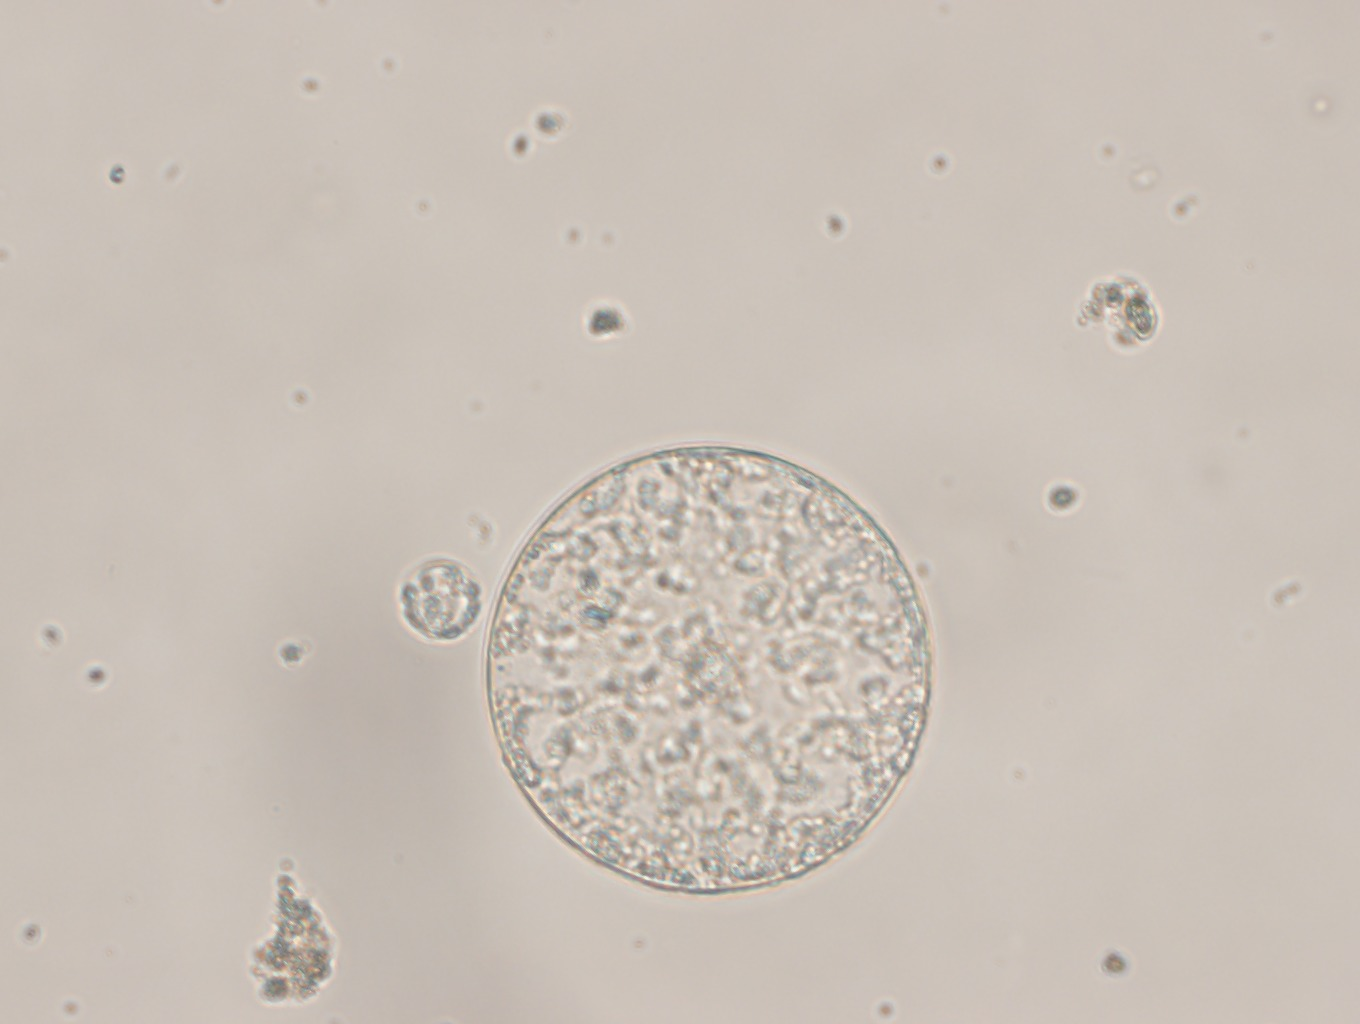coscinodiscus: (483, 443, 934, 898)
